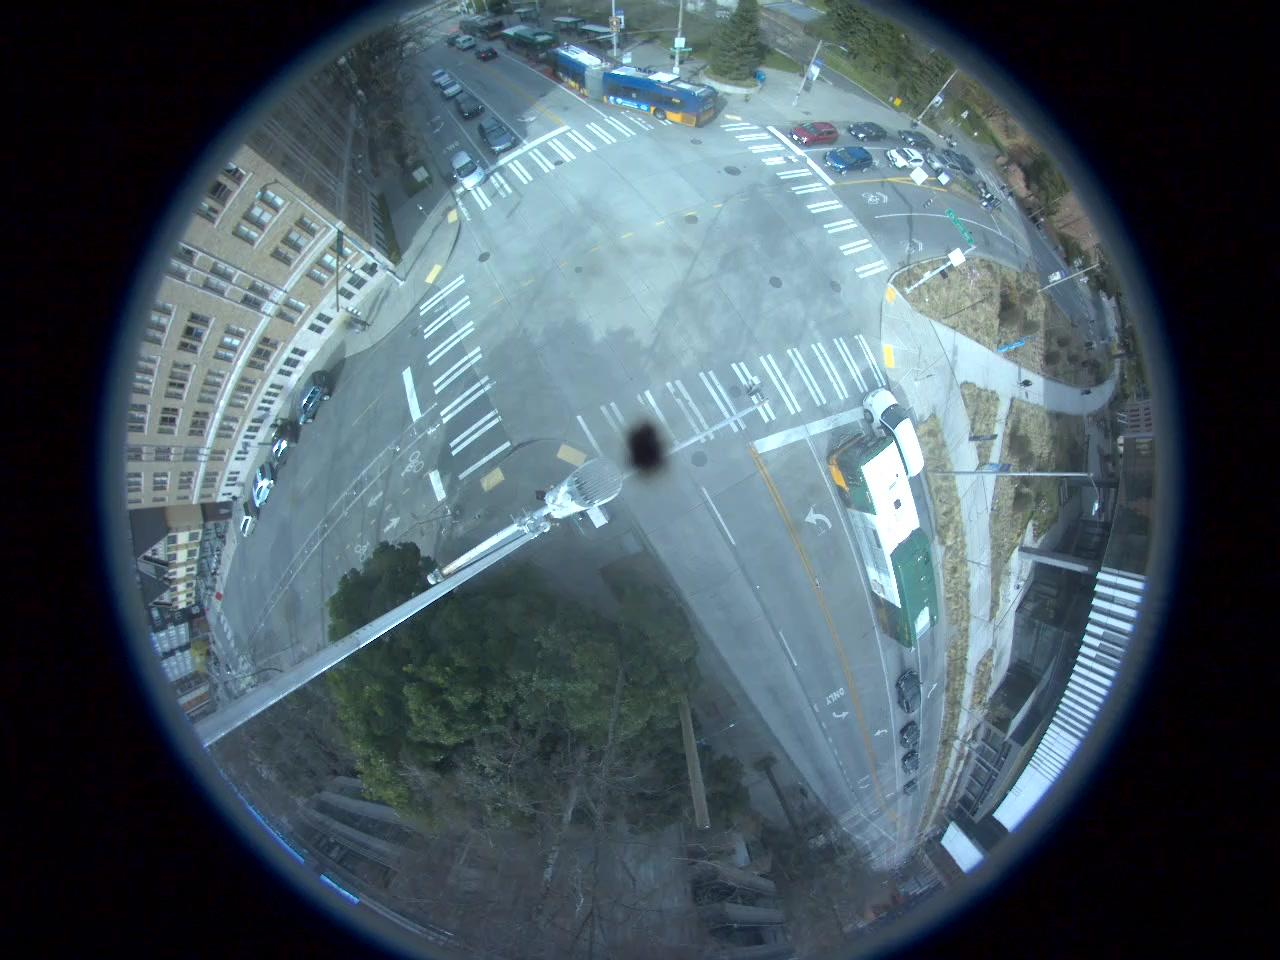bus: (828, 438, 938, 642), (550, 46, 717, 128), (498, 22, 554, 59), (459, 12, 503, 40)
car: (864, 381, 926, 476), (296, 370, 330, 425), (450, 150, 486, 192), (478, 118, 516, 154), (826, 146, 874, 174), (791, 122, 839, 146), (896, 668, 922, 712), (272, 422, 298, 462), (929, 150, 964, 178), (900, 128, 939, 151), (453, 92, 483, 120), (254, 464, 273, 508), (886, 148, 922, 171), (851, 117, 882, 140), (437, 76, 467, 98), (470, 43, 498, 65), (238, 503, 256, 535), (901, 720, 921, 746), (906, 752, 921, 774)
person: (352, 312, 372, 331), (338, 320, 358, 338), (1018, 376, 1041, 390)
